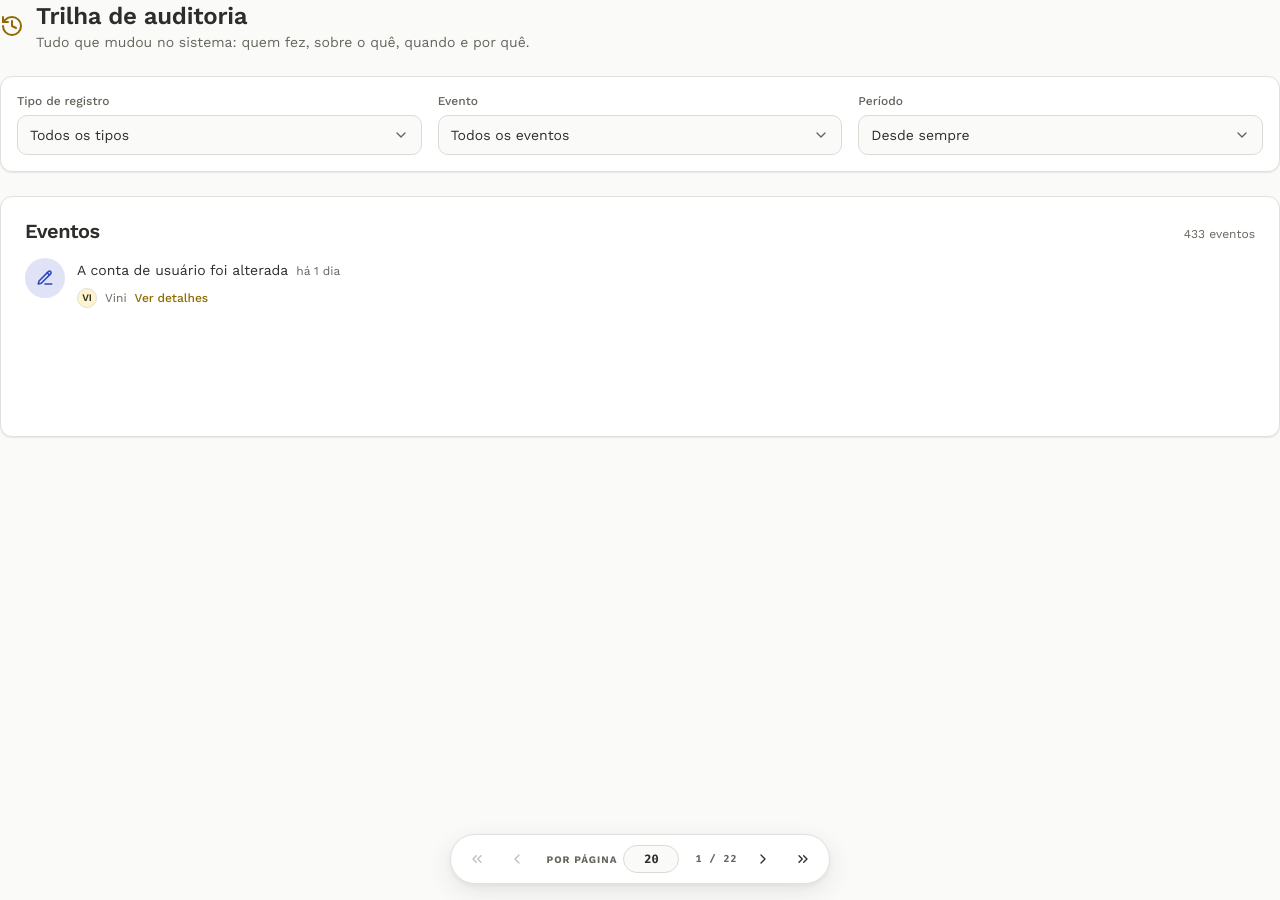
Test: AuditTrailPage — detalhe do evento › "Ver detalhes" abre um DIÁLOGO, e o conteúdo mora dentro dele
Check: the text "A conta de usuário foi alterada" is shown, box [77, 260, 288, 280]
Click the button "Ver detalhes" at {"x": 171, "y": 298}, box [135, 290, 208, 306]
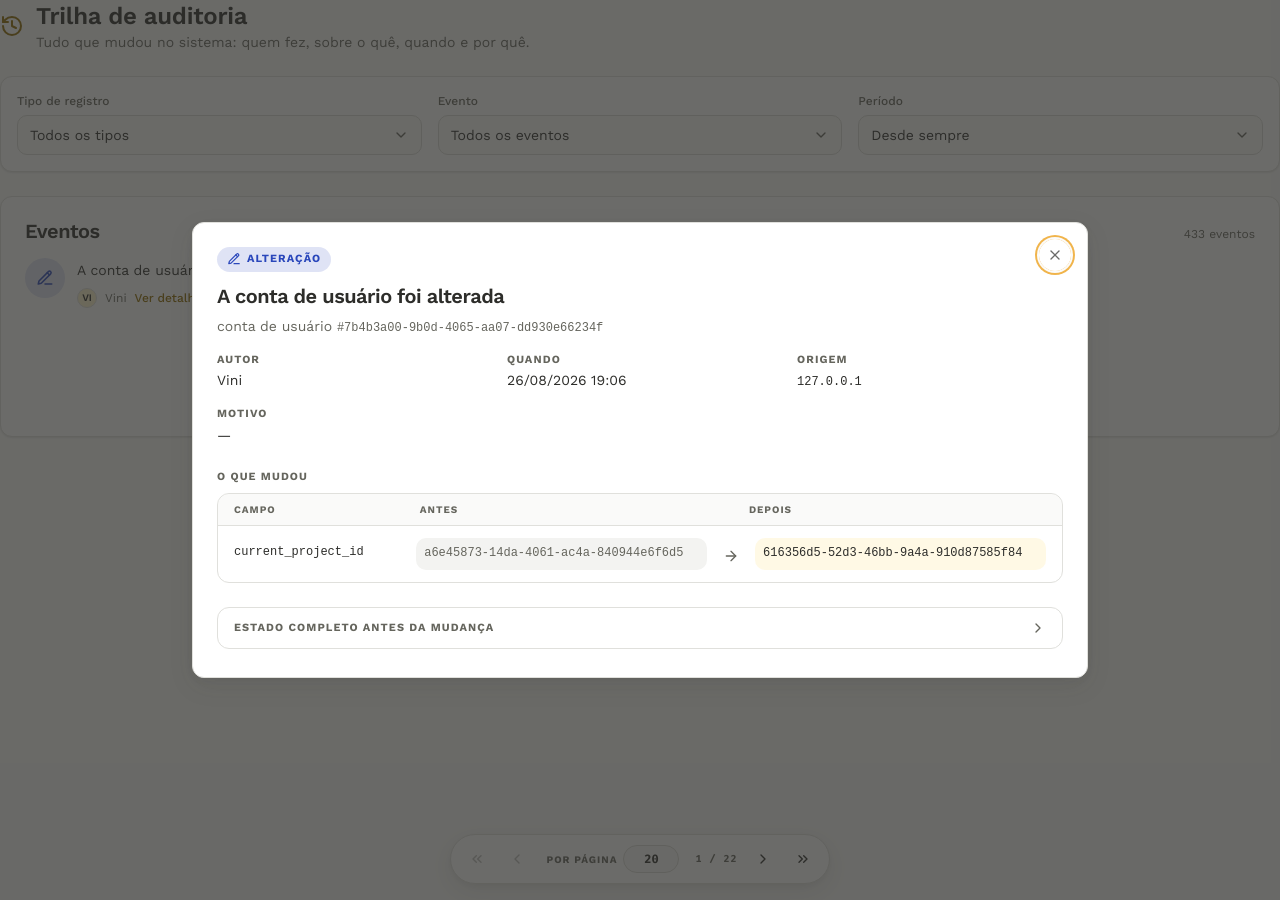
Check: the dialog is shown, box [192, 222, 1088, 678]
Check: the heading "A conta de usuário foi alterada" is shown, box [217, 284, 504, 308]
Check: the text "Vini" is shown, box [217, 372, 242, 388]
